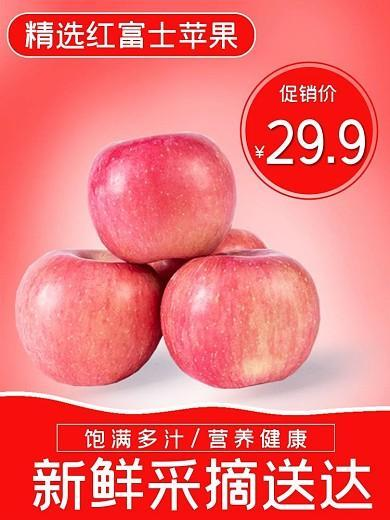apple: (156, 245, 318, 385), (16, 245, 168, 384), (83, 126, 238, 257)
